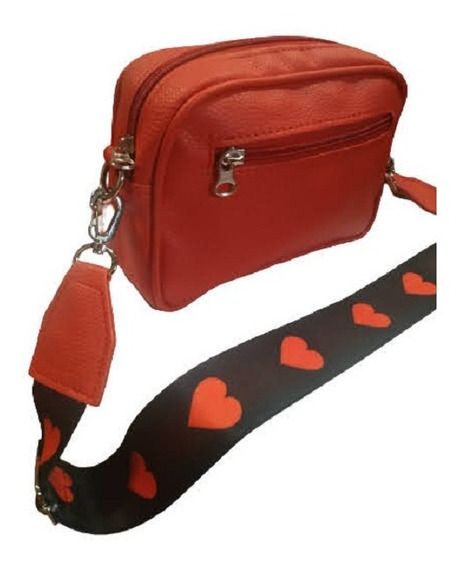cartera: (94, 32, 413, 313)
